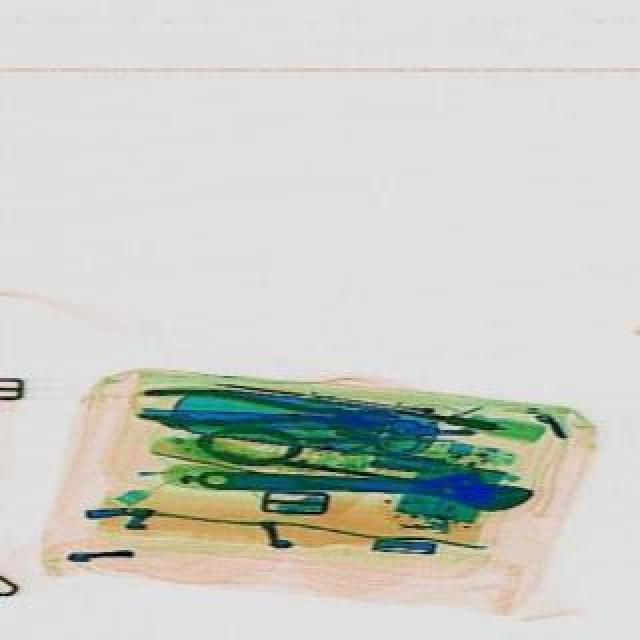scissors: (194, 456, 532, 510)
wrench: (134, 382, 394, 438)
